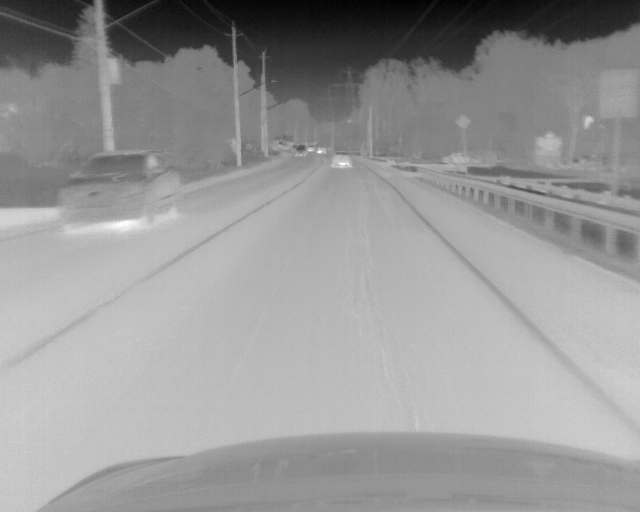car: (54, 150, 178, 225), (331, 151, 353, 169), (294, 146, 304, 157), (316, 146, 326, 155), (307, 145, 315, 153)
